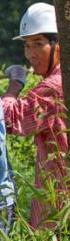gloves: (0, 74, 16, 128), (4, 64, 28, 86)
hard-hat: (0, 14, 35, 82)
